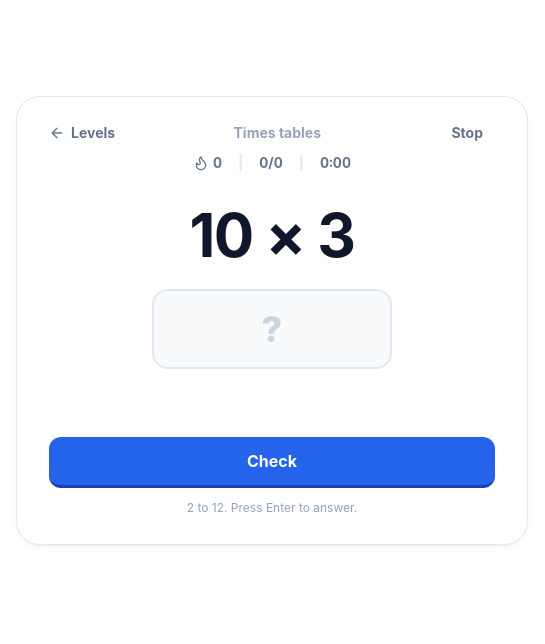
stopping › flushes whatever is still buffered and closes the session
The image size is (545, 644).
Type "30" into the field named "Answer for " at point(272, 329), box [154,309,390,349]
Press Enter in the field named "Answer for ", box [154,309,390,349]
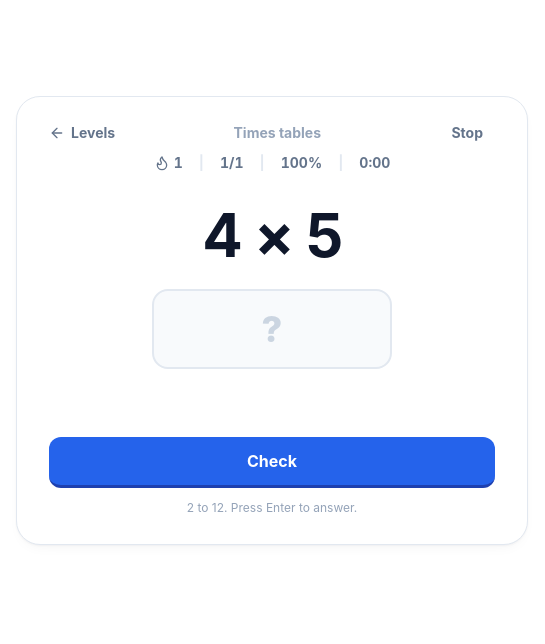
Type "20" into the field named "Answer for " at point(272, 329), box [154,309,390,349]
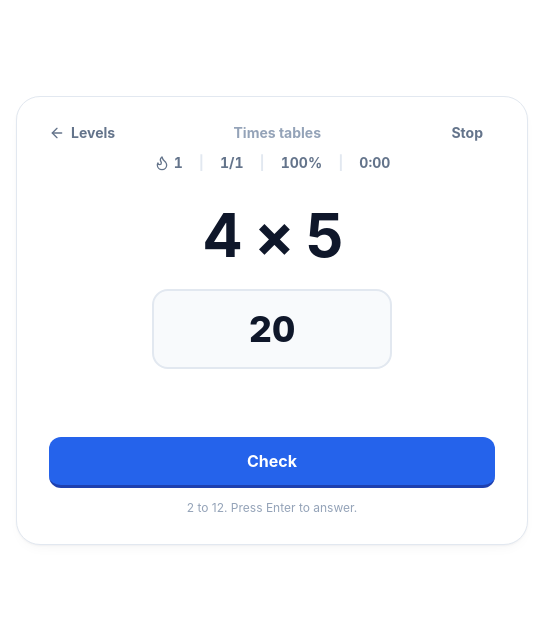
Press Enter in the field named "Answer for ", box [154,309,390,349]
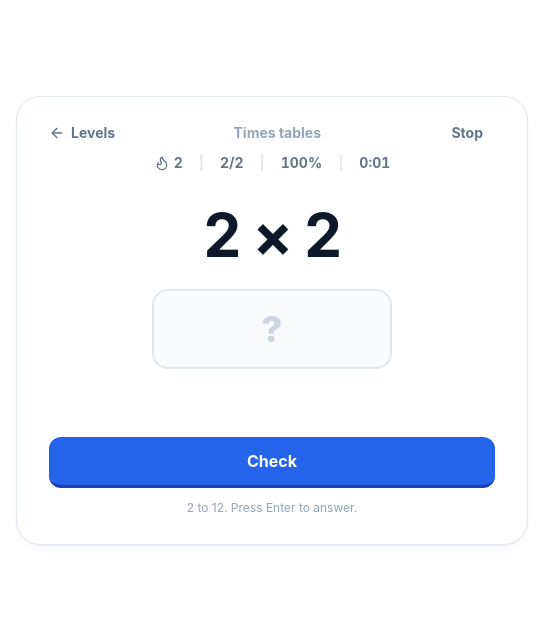
Type "4" into the field named "Answer for " at point(272, 329), box [154,309,390,349]
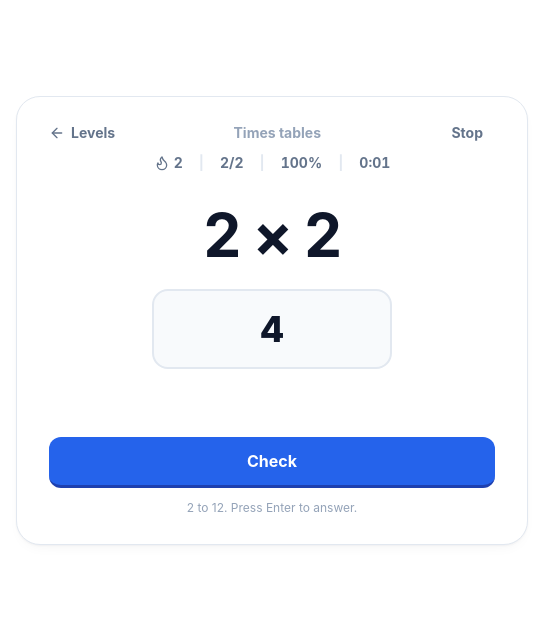
Press Enter in the field named "Answer for ", box [154,309,390,349]
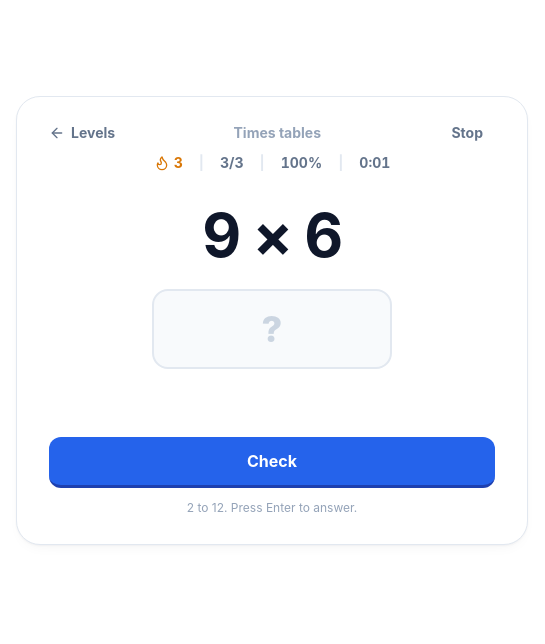
Click the button "Stop" at point(467, 133), box [439,123,495,143]
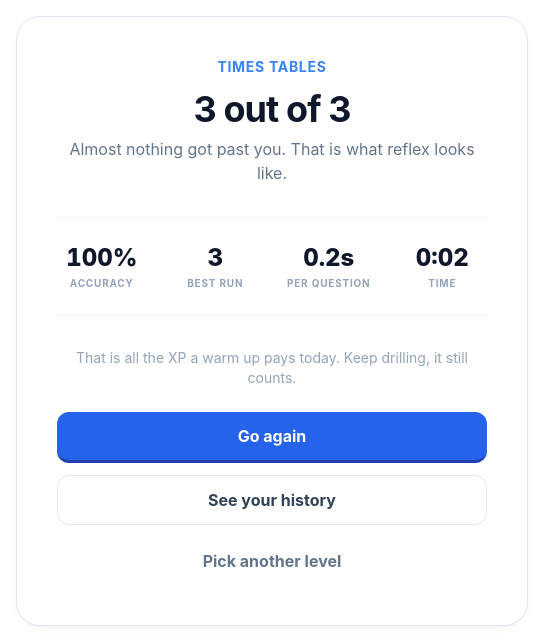
Expected: the heading "3 out of 3" is shown, [193,86,351,130]
